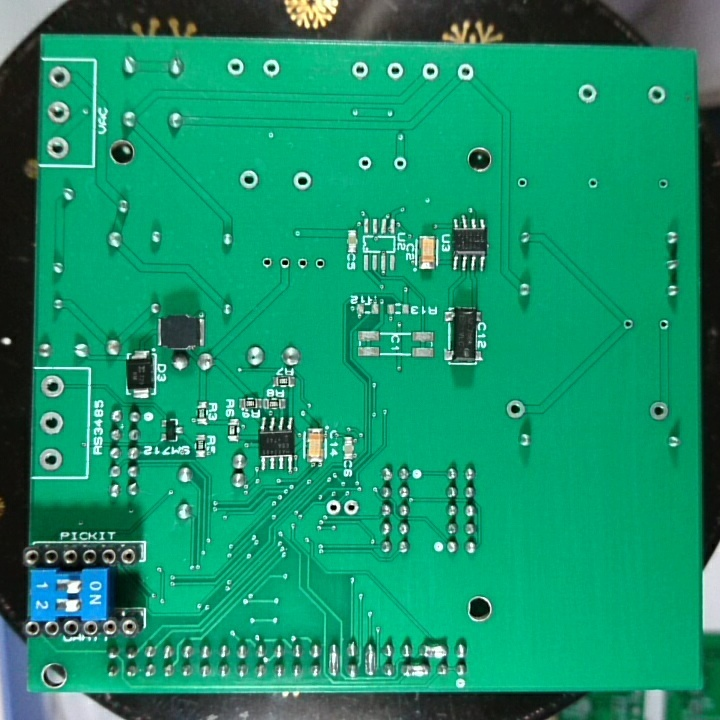F: (45, 134, 72, 162), (38, 410, 65, 437), (575, 80, 601, 108), (47, 64, 73, 92), (45, 98, 71, 126), (37, 446, 65, 472), (38, 374, 67, 399), (236, 167, 261, 192), (645, 83, 669, 107), (503, 397, 527, 420), (648, 398, 670, 422), (261, 57, 283, 80), (291, 170, 314, 192), (455, 60, 474, 86), (384, 60, 405, 83), (225, 55, 246, 78), (350, 59, 371, 80), (389, 153, 410, 174), (419, 60, 438, 83), (342, 498, 362, 518), (275, 253, 294, 274), (355, 153, 374, 172), (293, 255, 311, 275), (311, 253, 328, 273), (325, 497, 342, 516), (259, 253, 274, 273), (657, 315, 671, 335), (585, 175, 601, 192), (515, 175, 531, 192), (655, 175, 670, 192), (621, 316, 636, 332)
P: (418, 639, 451, 660), (325, 640, 342, 680), (397, 660, 431, 680), (362, 639, 378, 678)
